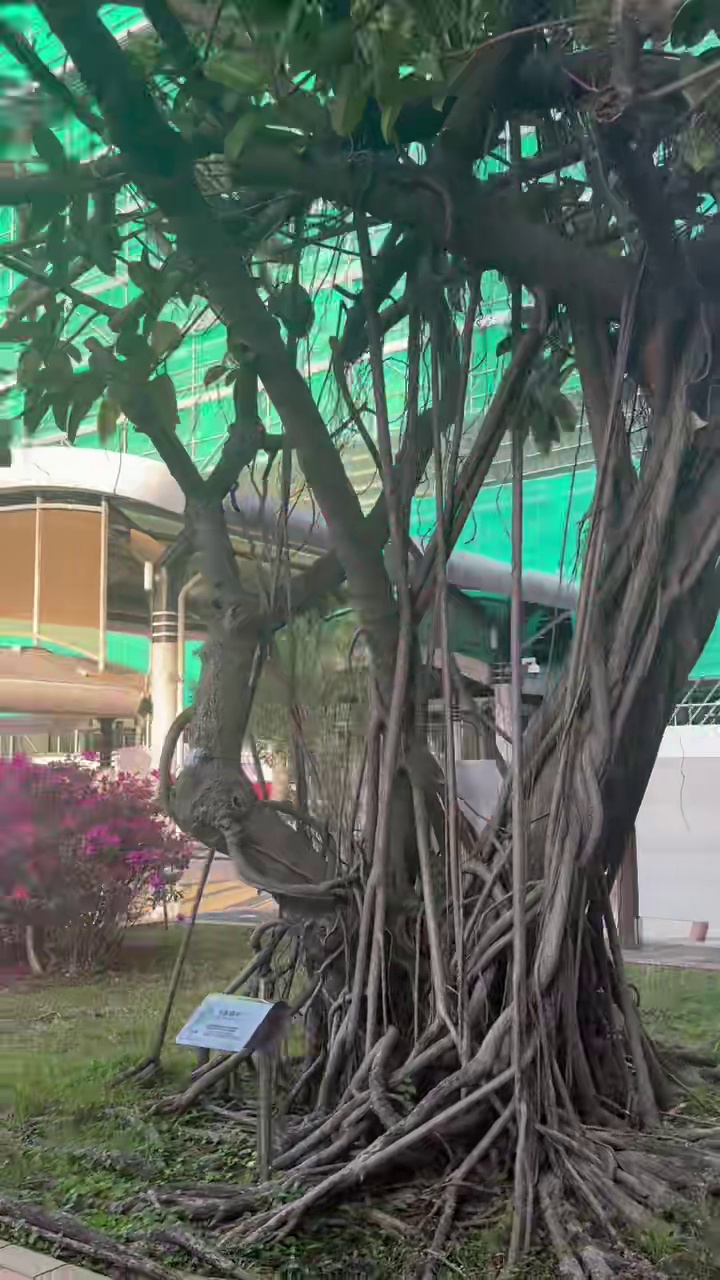Ficus elastica: (42, 0, 719, 1279)
